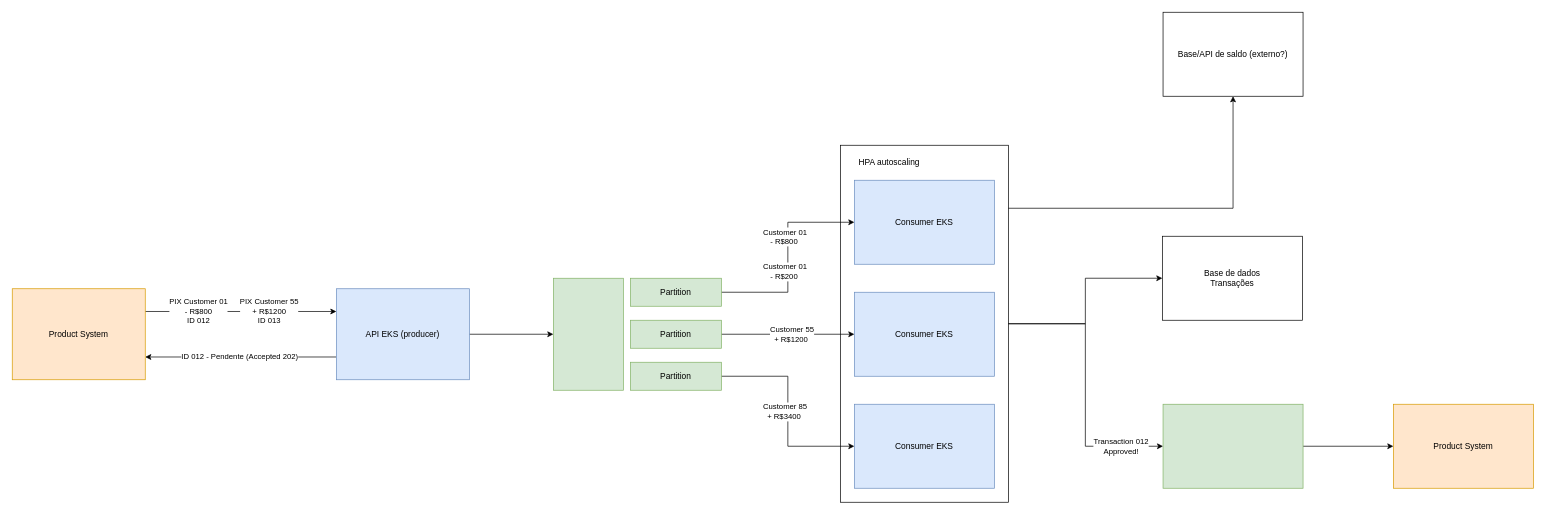
This 1546x515 diagram has some shape labels left out. Each missing label, with the centre of its shape:
Kafka: [588,334]
Kafka Topic Transactions: [1232,446]
